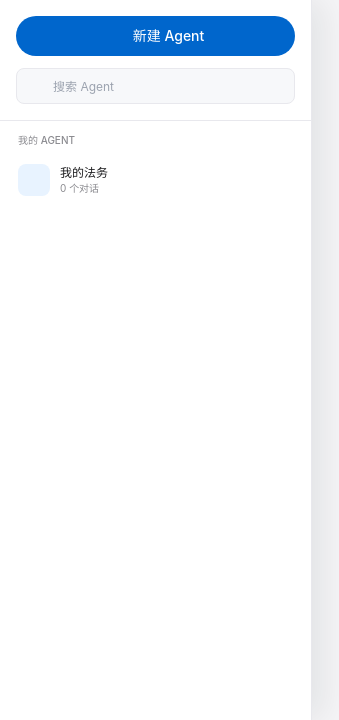
it: AgentRail 两个面板互切 › 名下没有对话时给一句空态
Click the text "我的法务": (84, 172) [60, 164, 108, 180]
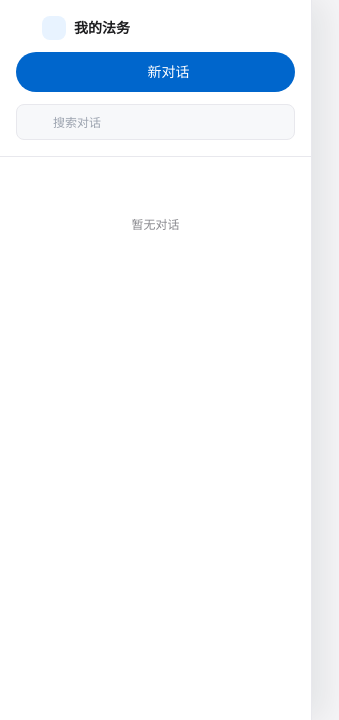
Now the text "暂无对话" is shown, box [132, 217, 180, 232]
